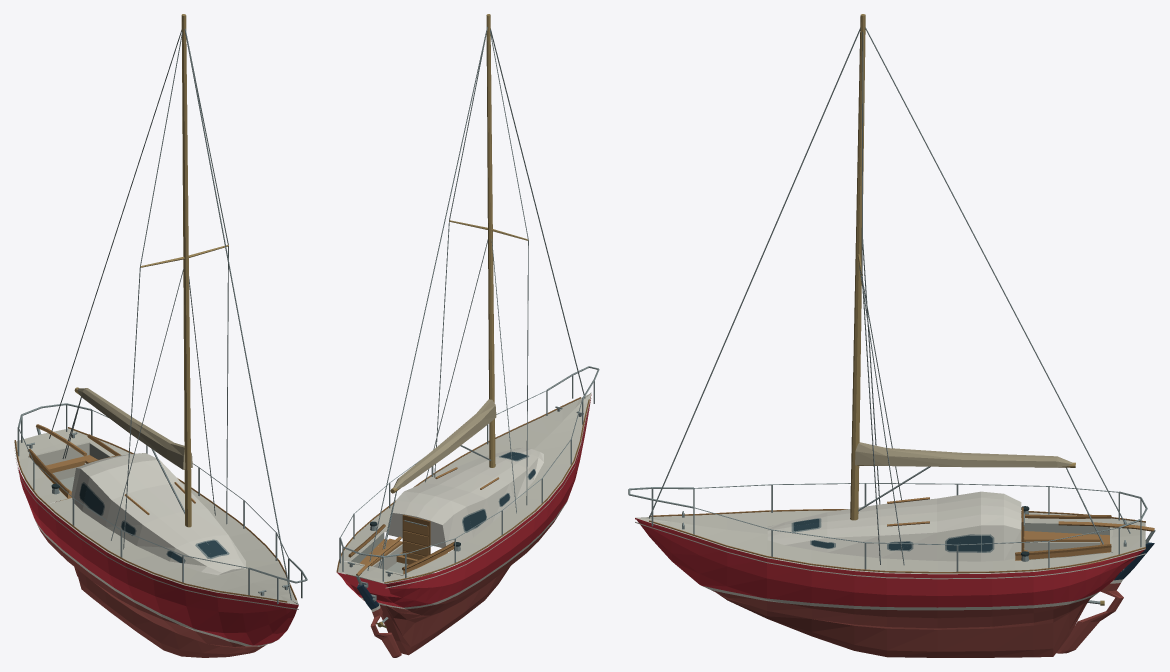
Rendered from KJP_Contessa26_rouge_lazybag.glb.
3 renders of one model, left to right at view 1: azimuth 30°, elevation 25°; view 2: azimuth 150°, elevation 25°; view 3: azimuth 270°, elevation 25°, orthographic. The views are drawn at different scales.
Visible parts, largest first — view 1: KJP_Contessa26; view 2: KJP_Contessa26; view 3: KJP_Contessa26.
Boxes of the visible parts, x1,y1,x2,y2 form: KJP_Contessa26: (14,14,307,657); KJP_Contessa26: (336,14,599,657); KJP_Contessa26: (628,14,1155,657).
Bounding box in the file's own units: 2.29 × 10.72 × 8.02.
